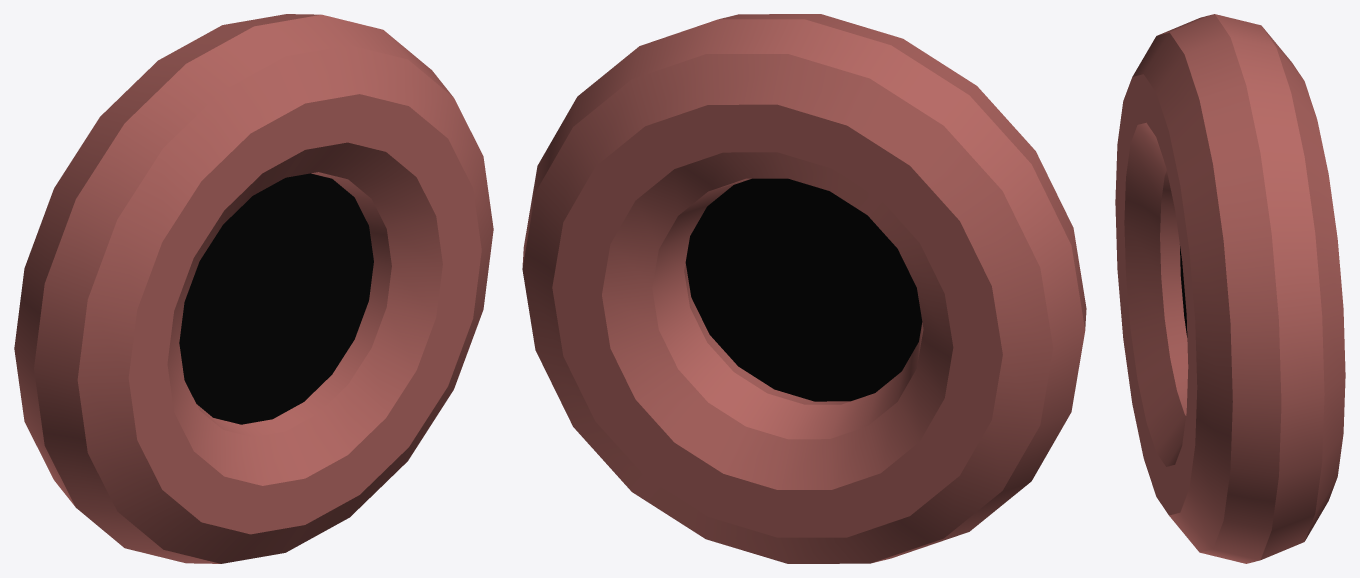
File: agiz04.fbx
The picture shows the model from 3 angles, left to right: view 1: azimuth 30°, elevation 25°; view 2: azimuth 150°, elevation 25°; view 3: azimuth 270°, elevation 25°; orthographic projection. The views are drawn at different scales.
Parts seen in each view (by area): view 1: agiz04; view 2: agiz04; view 3: agiz04.
Part boxes in pixels (box(x1,y1,x2,y2)): agiz04: box(14, 14, 493, 563); agiz04: box(522, 14, 1086, 563); agiz04: box(1115, 14, 1345, 563).
Size of the model in its own units: 0.3452 by 0.3512 by 0.1455.
